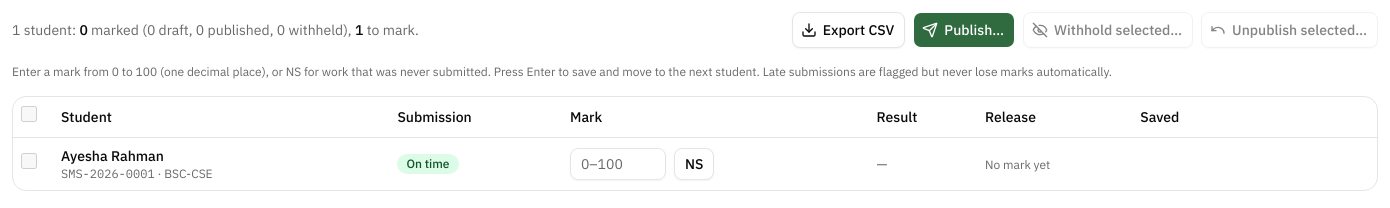
Scenario: MarksheetGrid › explains an invalid mark in the row and sends nothing
Type "100.5" into the field with placeholder "0–100" at {"x": 618, "y": 164}, box [570, 148, 666, 180]
Then press Enter
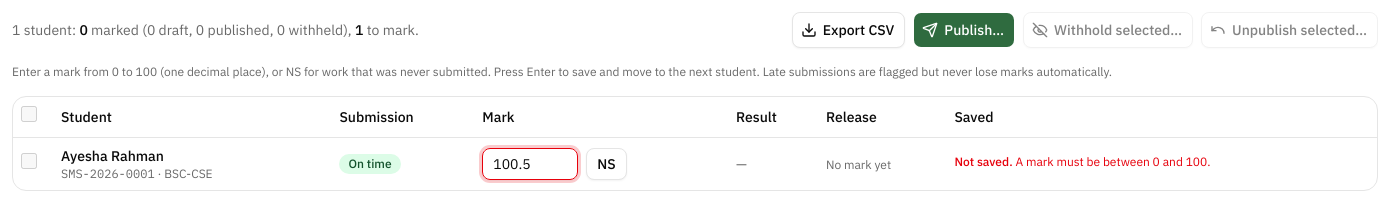
Check: the text "Not saved. A mark must be between 0 and 100." is shown, box [954, 154, 1210, 168]
Clear the field named "Mark for Ayesha Rahman" at {"x": 530, "y": 164}, box [482, 148, 578, 180]
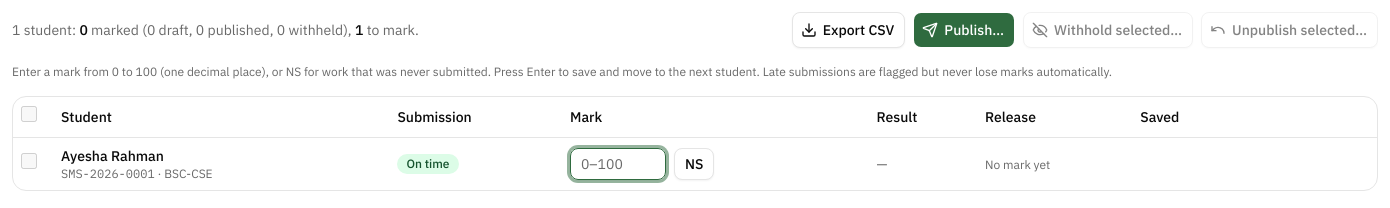
Type "40.25" into the field with placeholder "0–100" at {"x": 618, "y": 164}, box [570, 148, 666, 180]
Then press Enter
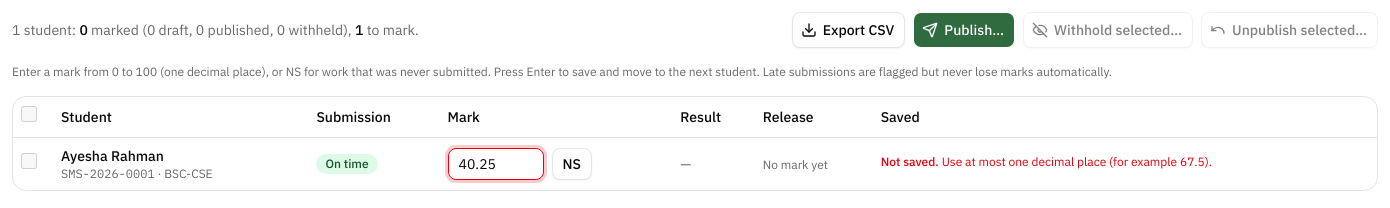
Check: the text "Not saved. Use at most one decimal place (for example 67.5)." is shown, box [881, 154, 1212, 168]
